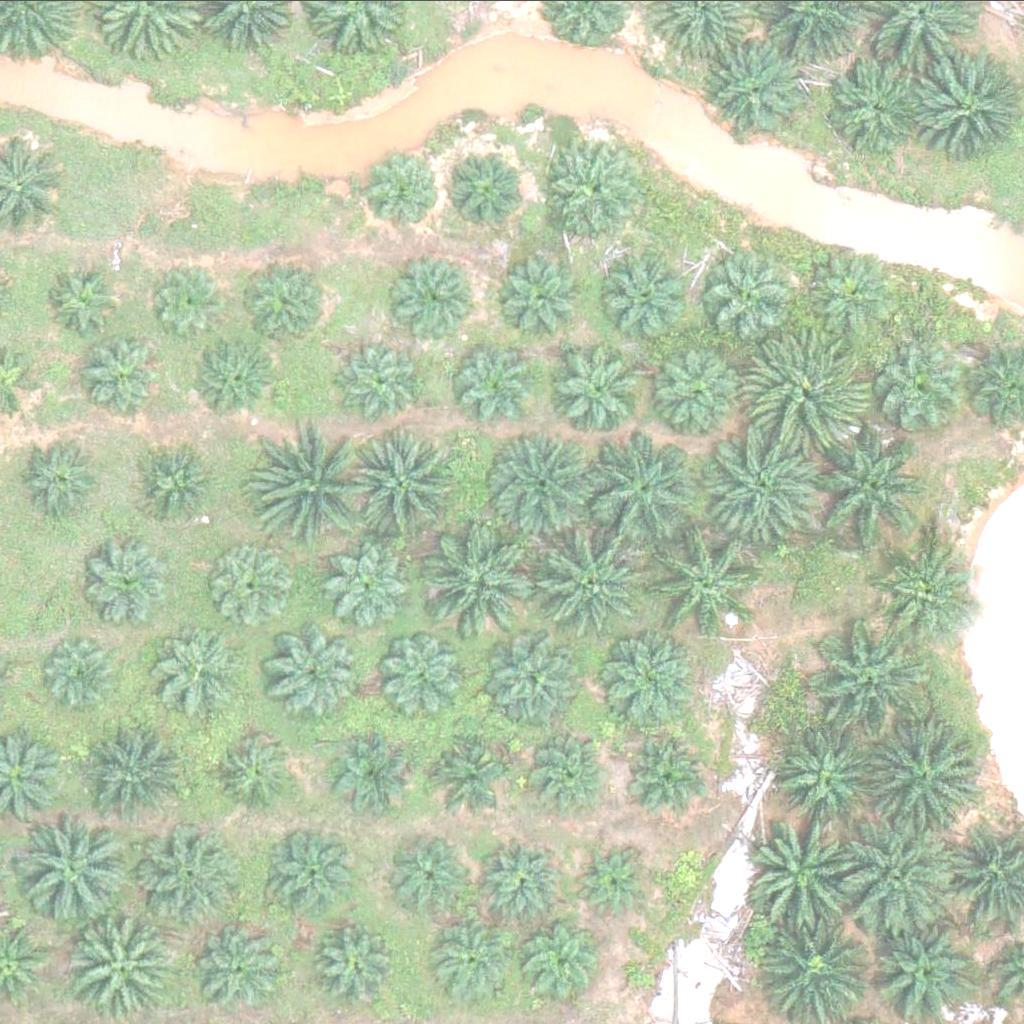Kelapa_Sawit: (868, 722, 982, 835), (483, 433, 597, 546), (747, 334, 860, 447), (260, 426, 373, 539), (581, 429, 694, 542), (85, 721, 198, 834), (22, 812, 135, 925), (708, 423, 822, 535), (810, 434, 923, 546), (810, 623, 923, 735), (843, 815, 956, 927), (353, 429, 466, 541), (647, 522, 760, 634), (538, 522, 651, 634), (426, 526, 539, 638), (747, 816, 860, 928), (827, 57, 928, 157), (539, 138, 640, 238), (600, 246, 701, 346), (493, 629, 594, 729), (139, 828, 240, 928), (774, 728, 875, 828), (707, 38, 808, 138), (883, 539, 983, 639), (646, 336, 746, 436), (550, 332, 650, 432), (599, 630, 699, 730), (76, 331, 165, 419), (869, 344, 957, 432), (20, 433, 108, 521), (136, 445, 224, 533), (243, 261, 331, 349), (804, 247, 892, 335), (453, 338, 541, 426), (279, 629, 367, 717), (380, 629, 468, 717), (310, 927, 398, 1015), (265, 829, 353, 917), (628, 730, 716, 818), (211, 728, 299, 816), (212, 539, 300, 627), (191, 333, 279, 420), (339, 340, 427, 427), (396, 251, 484, 338), (442, 144, 530, 231), (712, 250, 800, 337), (491, 255, 579, 342), (514, 913, 602, 1000), (429, 917, 517, 1004), (193, 926, 281, 1013), (390, 832, 478, 919), (474, 831, 562, 918), (518, 733, 606, 820), (421, 725, 509, 812), (324, 733, 412, 820), (83, 538, 171, 625), (325, 541, 413, 628), (156, 627, 244, 714), (46, 635, 122, 710), (156, 262, 232, 337), (571, 842, 647, 917), (369, 153, 445, 228), (51, 259, 126, 334)
